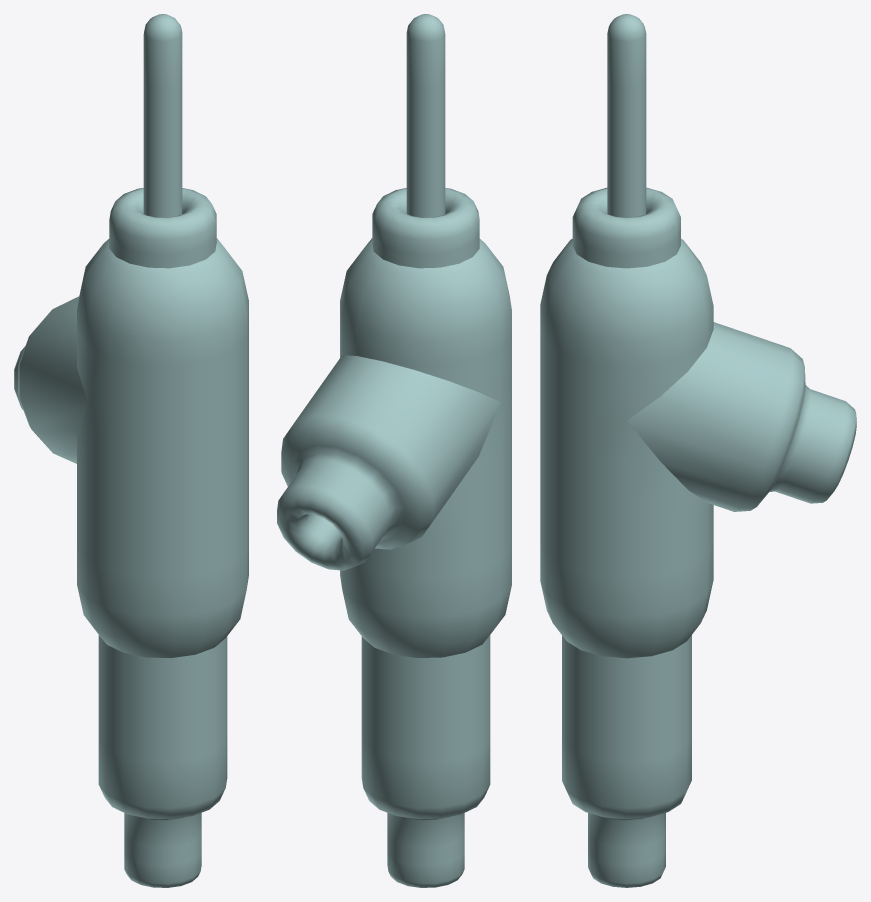
The model's file is LastLuna_Model_Station_Glass_Distill_Collector.fbx.
The picture shows the model from 3 angles, left to right: view 1: azimuth 30°, elevation 25°; view 2: azimuth 150°, elevation 25°; view 3: azimuth 270°, elevation 25°; orthographic projection.
Parts seen in each view (by area): view 1: Distill_Collector001; view 2: Distill_Collector001; view 3: Distill_Collector001.
Part boxes in pixels (bbox=[...]): Distill_Collector001: bbox=[14, 14, 248, 887]; Distill_Collector001: bbox=[277, 14, 511, 887]; Distill_Collector001: bbox=[540, 14, 856, 887].
Size of the model in its own units: 20 by 109 by 36.54.
